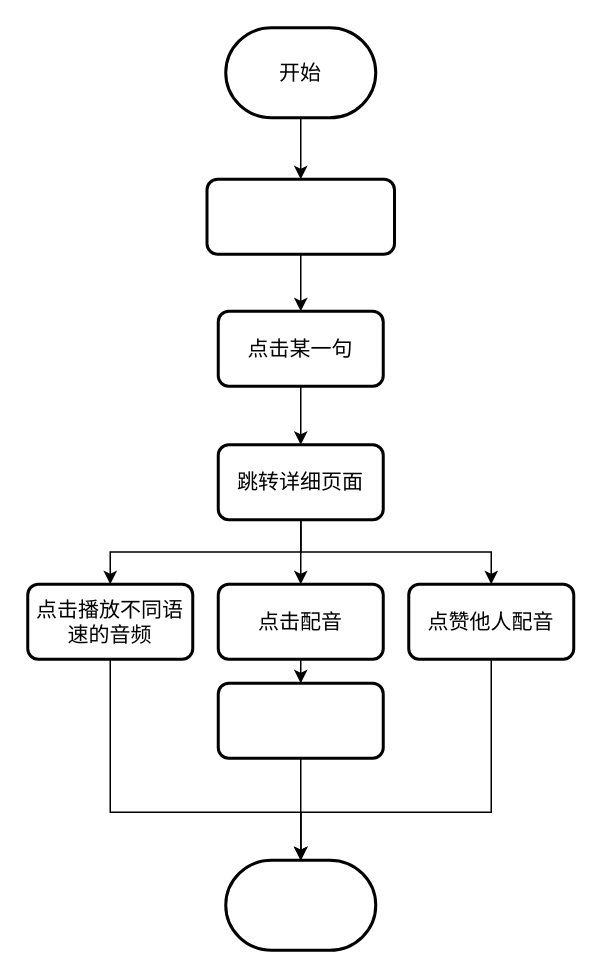
This 600x977 diagram has some shape labels left out. The box of each missing label's shape, as (x1, y1, x2, y2) in pixels:
上传服务器: (216, 681, 384, 759)
结束: (224, 858, 376, 951)
进入每日一句模块: (205, 177, 395, 255)
